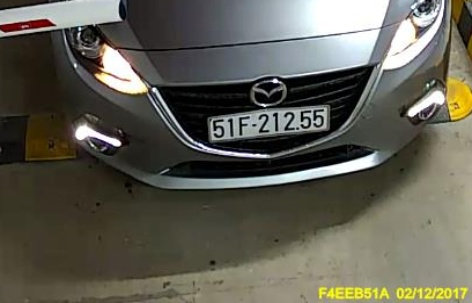plate: (203, 103, 330, 145)
